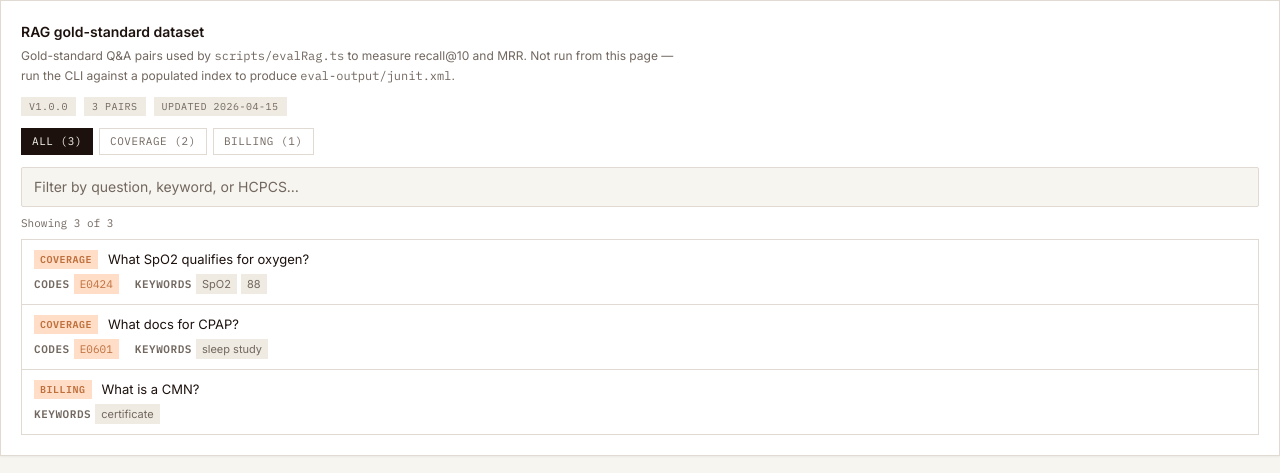
Test case: RagEvalDatasetViewer › filters by category chip
Click the button "billing (1)": (263, 141) [213,128,314,154]
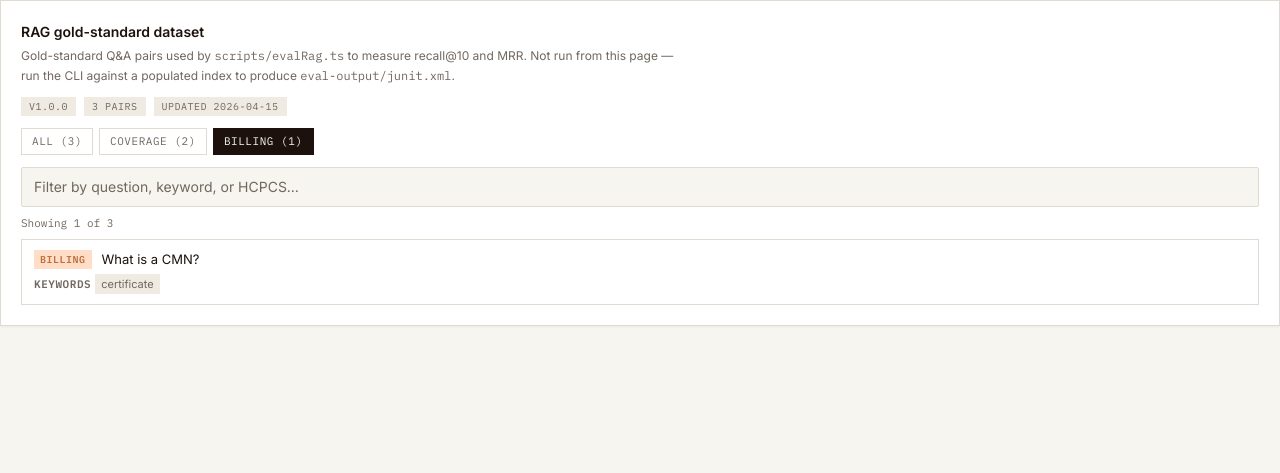
Check: the text "What is a CMN?" is shown, box [102,250,200,270]
Check: the text "What SpO2 qualifies for oxygen?" is gone
